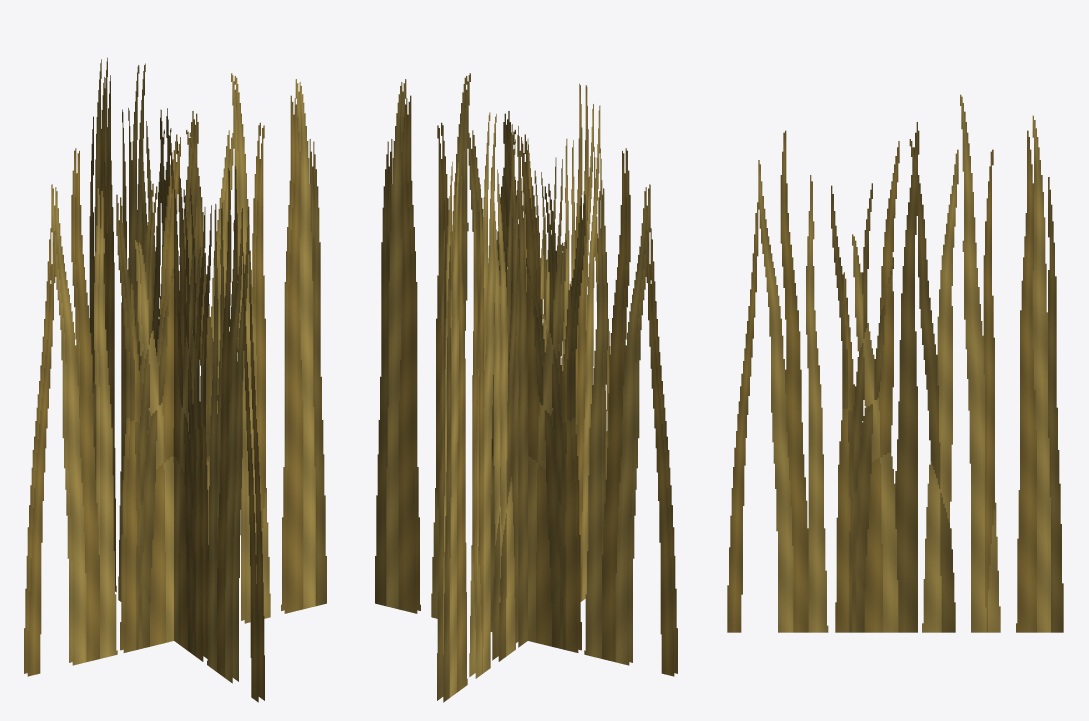
The model's file is GrassDry.glb.
3 renders of one model, left to right at view 1: azimuth 30°, elevation 25°; view 2: azimuth 150°, elevation 25°; view 3: azimuth 270°, elevation 25°, orthographic. The views are drawn at different scales.
Visible parts, largest first — view 1: GrassCrossCards; view 2: GrassCrossCards; view 3: GrassCrossCards.
Boxes of the visible parts, box(x1,y1,x2,y2) form: GrassCrossCards: box(24, 57, 326, 702); GrassCrossCards: box(375, 73, 677, 702); GrassCrossCards: box(727, 94, 1063, 632).
Size of the model in its own units: 0.3 by 0.5 by 0.3.
Materials: 1 (1 with a texture image).
